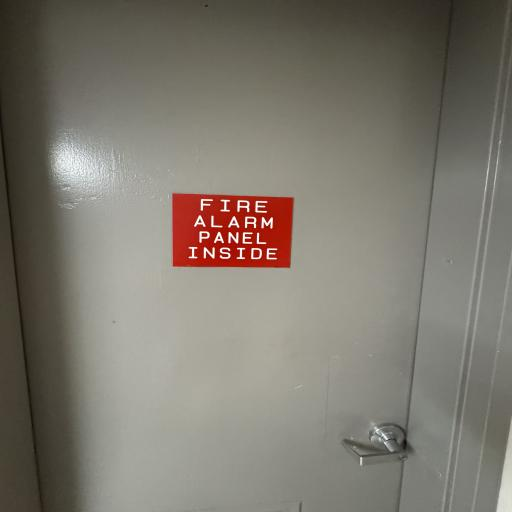sign: (170, 190, 298, 270)
